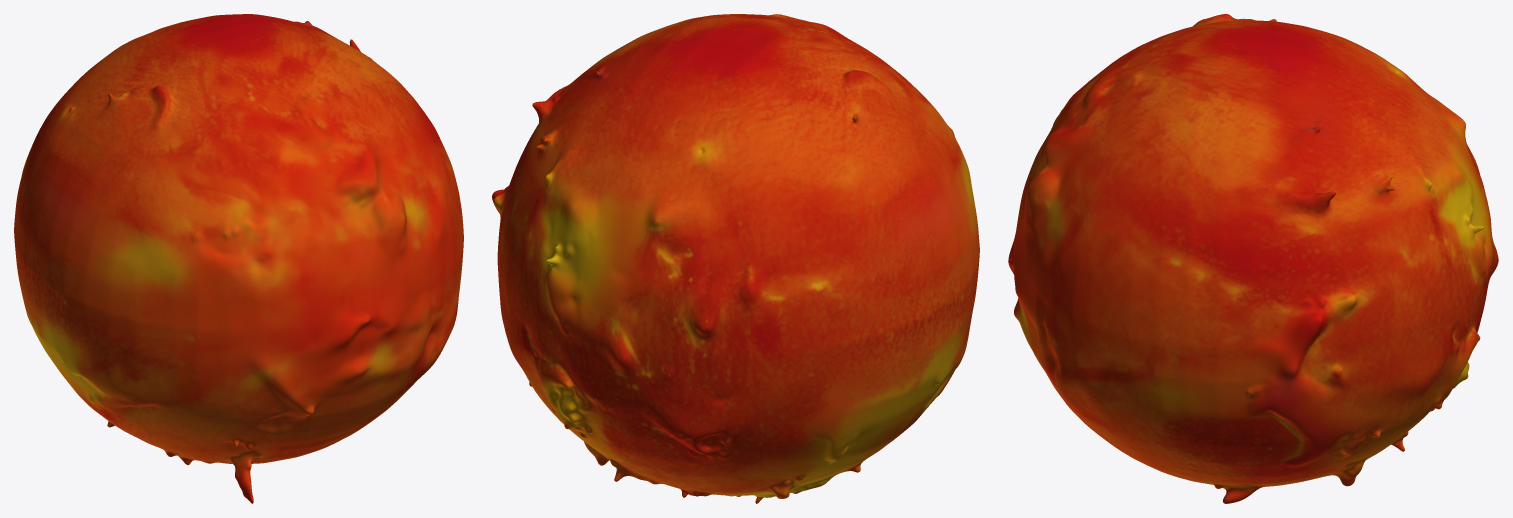
File: sun-3d-model.glb
The picture shows the model from 3 angles, left to right: view 1: azimuth 30°, elevation 25°; view 2: azimuth 150°, elevation 25°; view 3: azimuth 270°, elevation 25°; orthographic projection. The views are drawn at different scales.
Parts seen in each view (by area): view 1: tripo_node_1d07dd50-67f6-4ba2-b51a-f22e4730844a; view 2: tripo_node_1d07dd50-67f6-4ba2-b51a-f22e4730844a; view 3: tripo_node_1d07dd50-67f6-4ba2-b51a-f22e4730844a.
Part boxes in pixels (x1=…): tripo_node_1d07dd50-67f6-4ba2-b51a-f22e4730844a: x1=14, y1=14, x2=463, y2=503; tripo_node_1d07dd50-67f6-4ba2-b51a-f22e4730844a: x1=492, y1=14, x2=979, y2=503; tripo_node_1d07dd50-67f6-4ba2-b51a-f22e4730844a: x1=1008, y1=14, x2=1498, y2=503.
Bounding box in the file's own units: 0.9689 × 0.967 × 1.
1 material, 1 textured.
